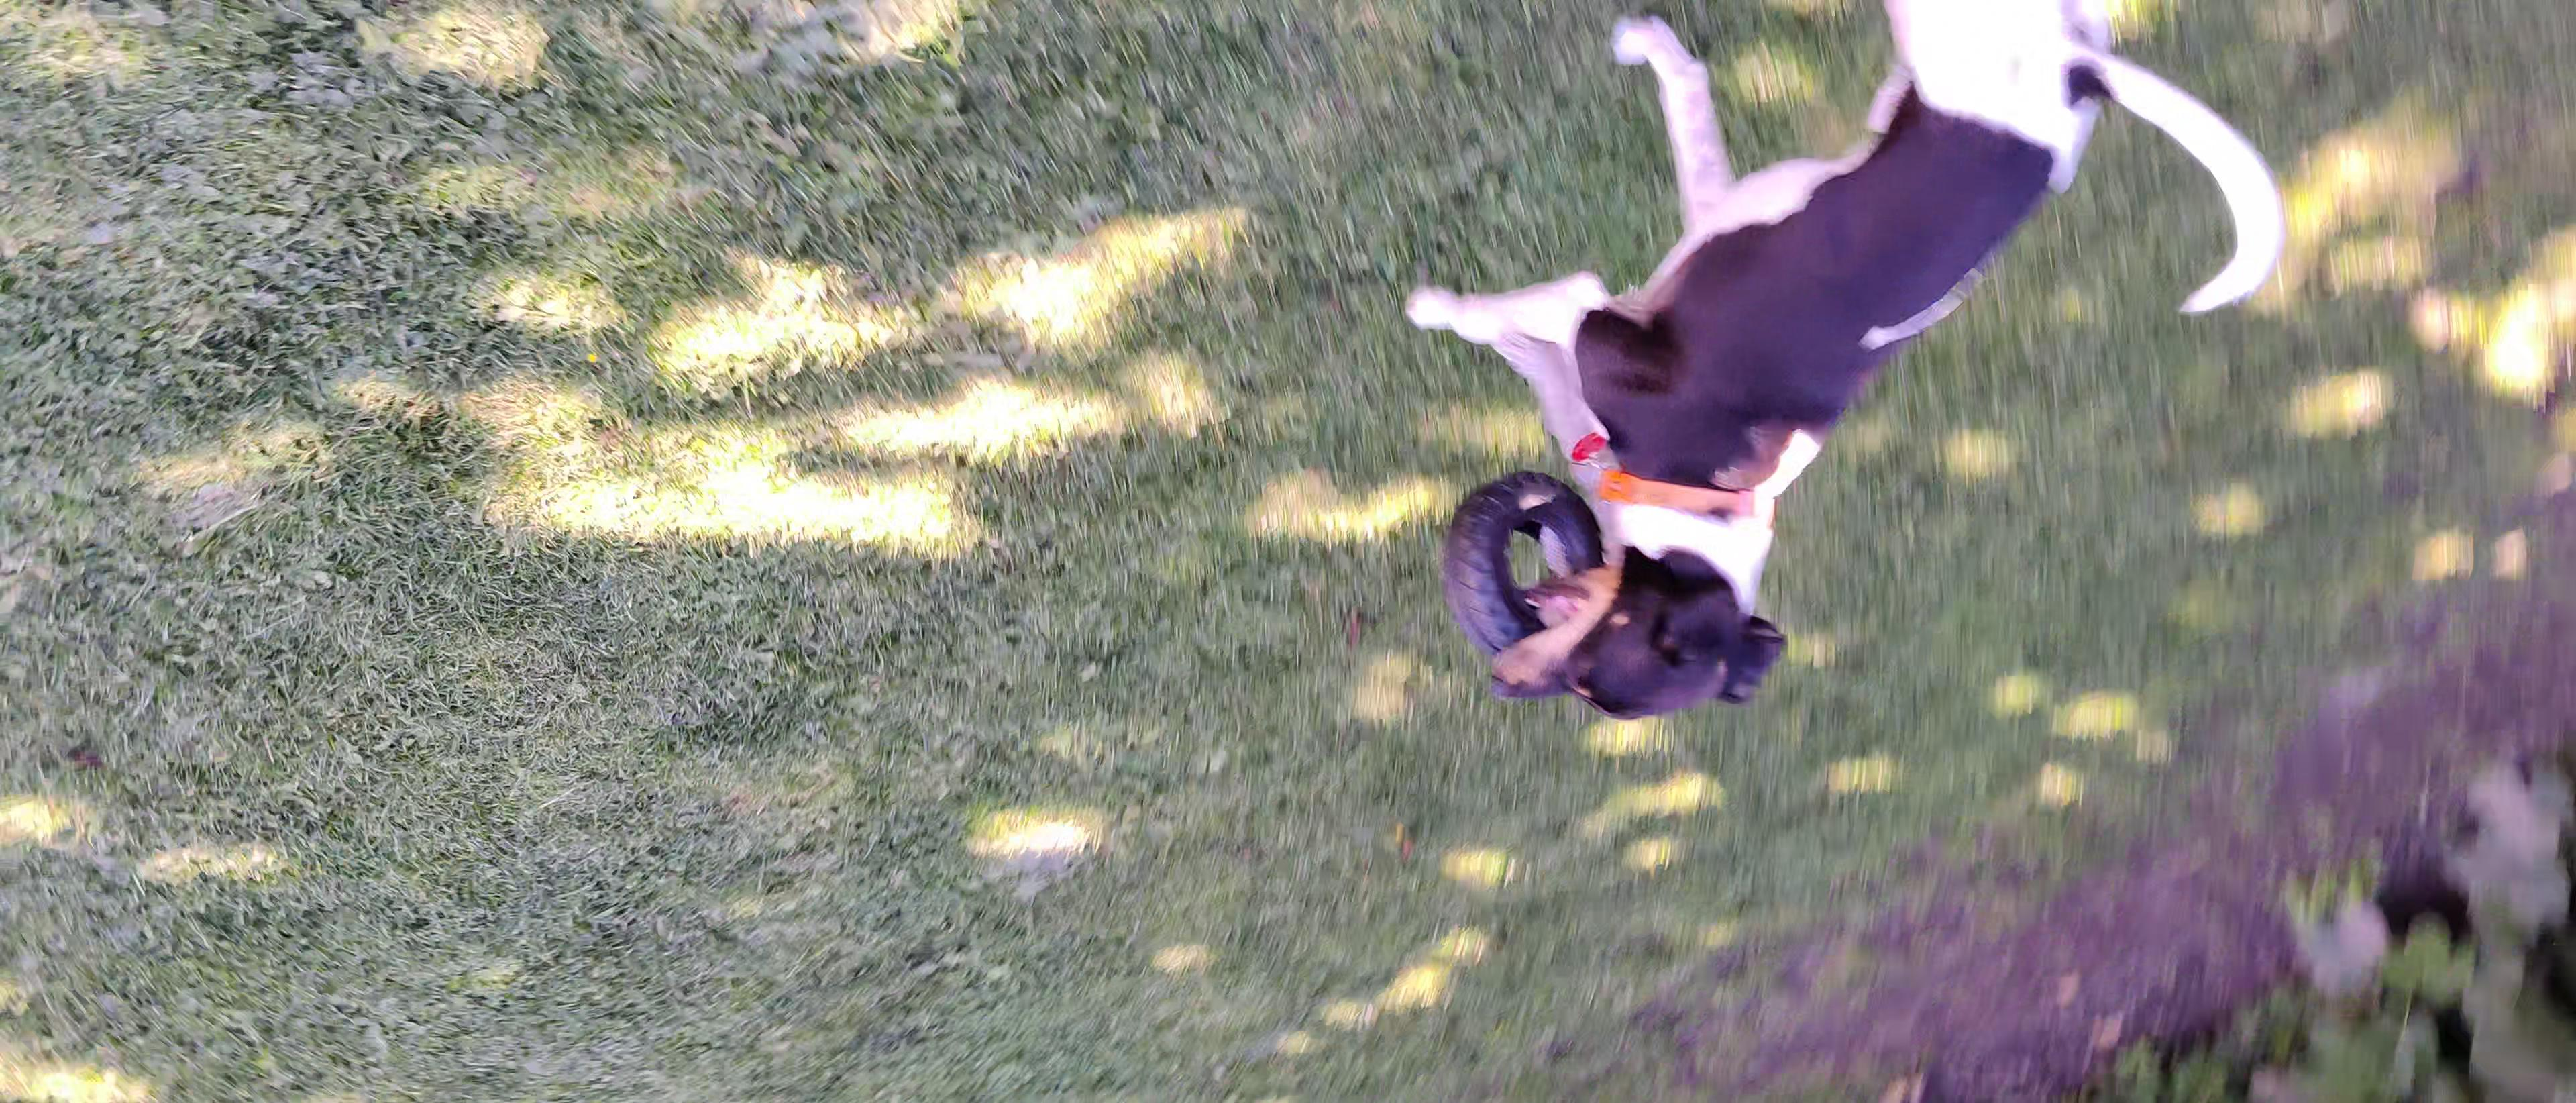Dog: (1387, 0, 2300, 745)
